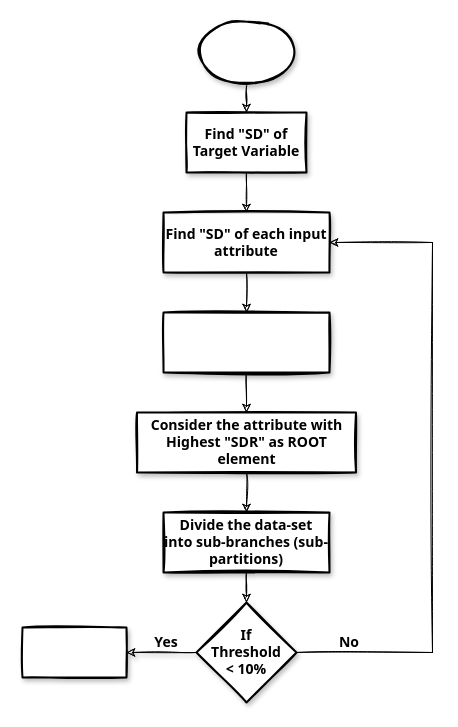
Image size: 458x727. Some labels were removed from this diagram. Each missing label, with the centre of its shape:
Find "SDR" for each input attribute: (x=247, y=343)
Leaf Node: (x=75, y=653)
START: (x=247, y=53)
